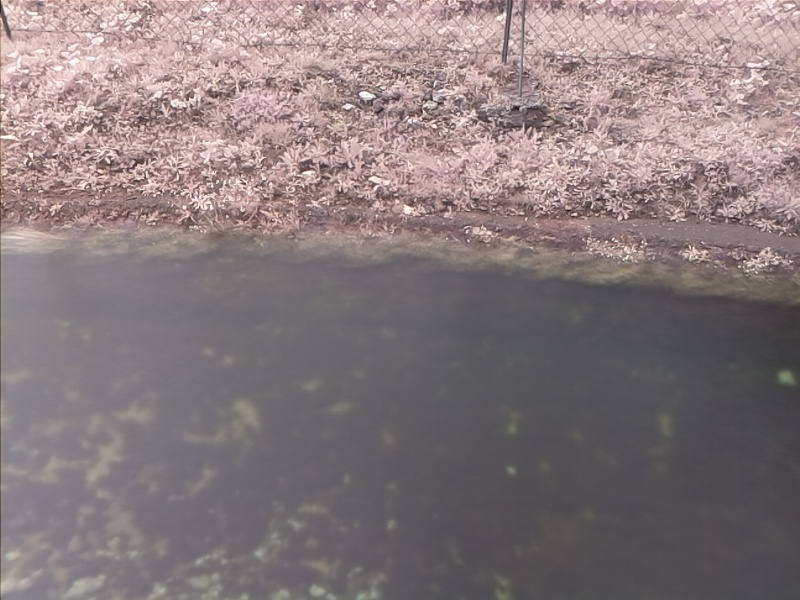Water: (1, 221, 797, 600)
